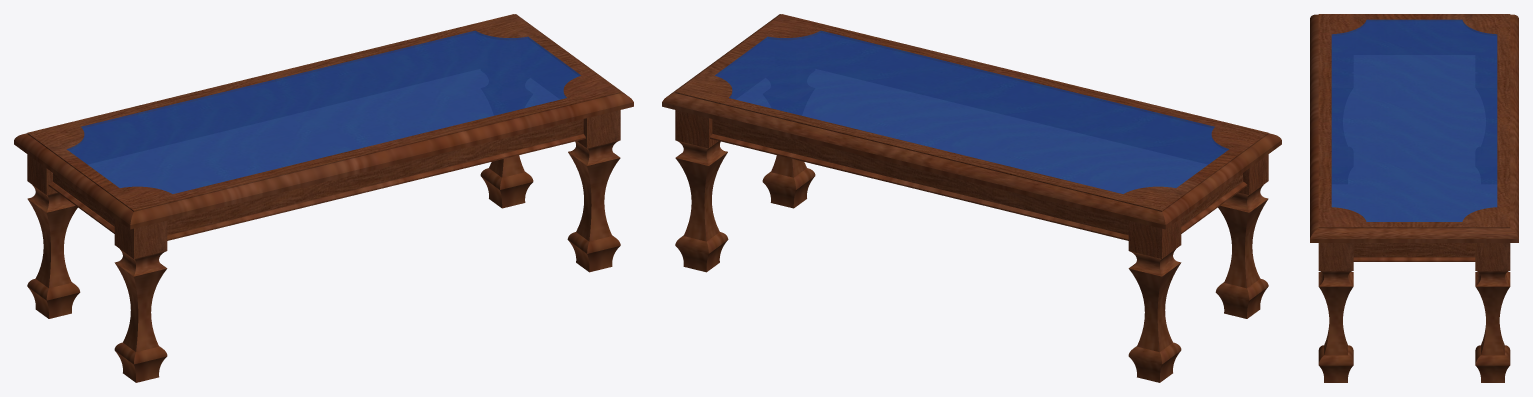
Rendered from coffeeTable.dae.
3 views of the same model, side by side, from view 1: azimuth 30°, elevation 25°; view 2: azimuth 150°, elevation 25°; view 3: azimuth 270°, elevation 25° (orthographic). The views are drawn at different scales.
Visible parts, largest first — view 1: Component_3, Component_1 (×2), Component_2 (×4), Component_4, Component_5; view 2: Component_3, Component_1 (×2), Component_2 (×4), Component_4, Component_5; view 3: Component_3, Component_1, Component_2 (×2), Component_5.
Part boxes in pixels (box(x1,y1,x2,y2)): Component_3: box(67, 30, 580, 193); Component_1 (×2): box(14, 14, 633, 229); Component_2 (×4): box(27, 110, 620, 382); Component_4: box(167, 119, 585, 240); Component_5: box(48, 173, 114, 233); Component_3: box(715, 30, 1228, 193); Component_1 (×2): box(662, 14, 1281, 229); Component_2 (×4): box(675, 110, 1268, 382); Component_4: box(710, 119, 1128, 240); Component_5: box(1181, 173, 1247, 233); Component_3: box(1331, 19, 1497, 221); Component_1: box(1310, 14, 1518, 242); Component_2 (×2): box(1318, 243, 1510, 382); Component_5: box(1353, 243, 1475, 261).
Size of the model in its own units: 60 by 24 by 20.
